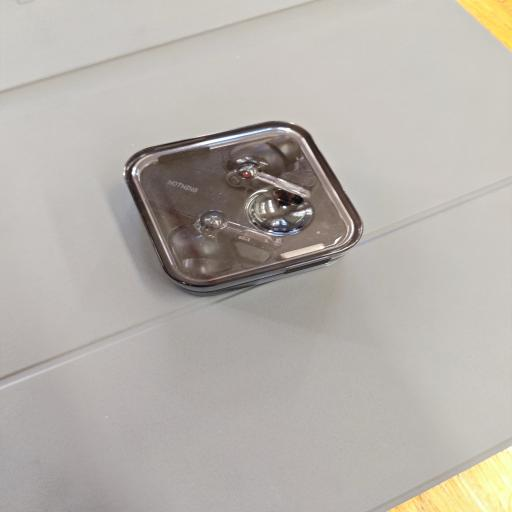CASTI: (106, 112, 377, 307)
